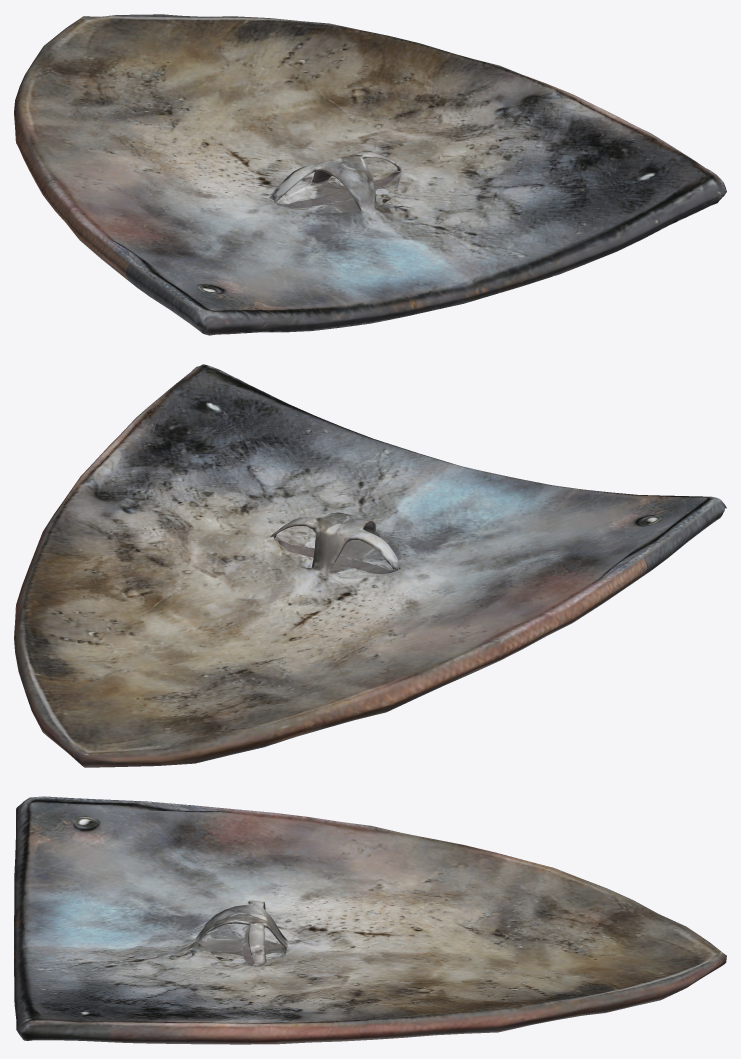
File: Shield_WeatheredShield.fbx
3 views of the same model, one above another, from view 1: azimuth 30°, elevation 25°; view 2: azimuth 150°, elevation 25°; view 3: azimuth 270°, elevation 25° (orthographic). The views are drawn at different scales.
Parts seen in each view (by area): view 1: WeatheredShield_Mesh; view 2: WeatheredShield_Mesh; view 3: WeatheredShield_Mesh.
Part boxes in pixels (box(x1,y1,x2,y2)): WeatheredShield_Mesh: box(14, 14, 726, 335); WeatheredShield_Mesh: box(14, 364, 726, 767); WeatheredShield_Mesh: box(14, 796, 726, 1044).
Size of the model in its own units: 83.89 by 106 by 10.3.
Materials: 1 (1 with a texture image).
